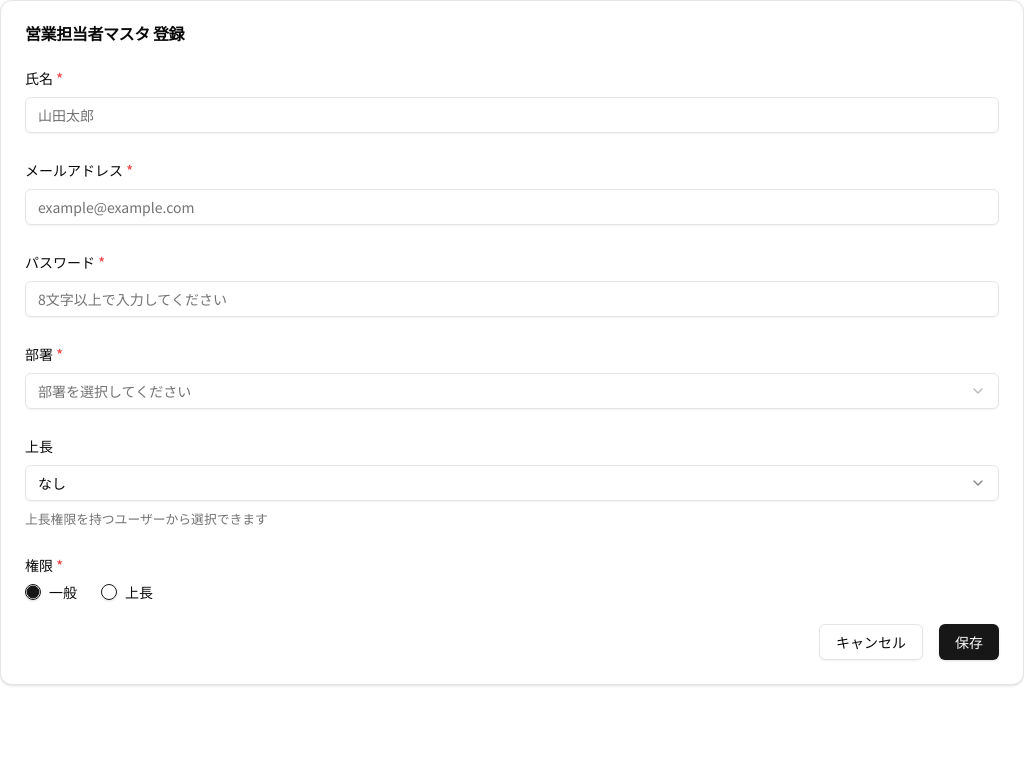
Test: SalesPersonForm › validation - create mode › should show password validation error
In the field labelled "氏名 *": (512, 115) left=25, top=97, right=999, bottom=133, type "テスト"
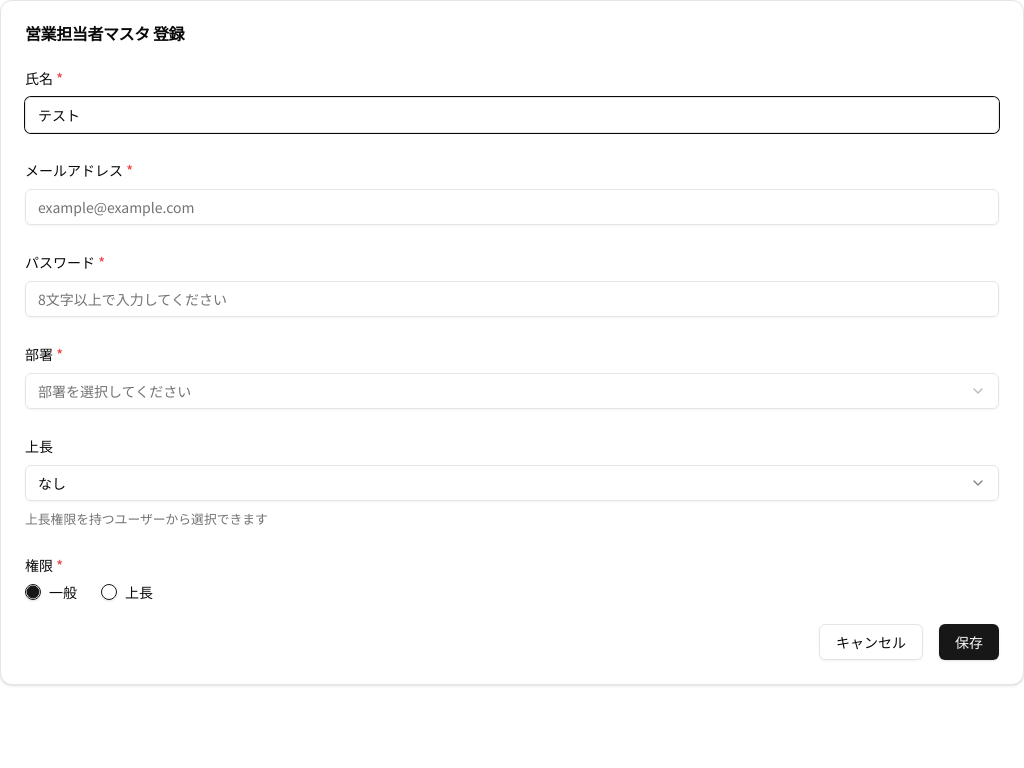
In the field labelled "メールアドレス *": (512, 207) left=25, top=189, right=999, bottom=225, type "test@example.com"
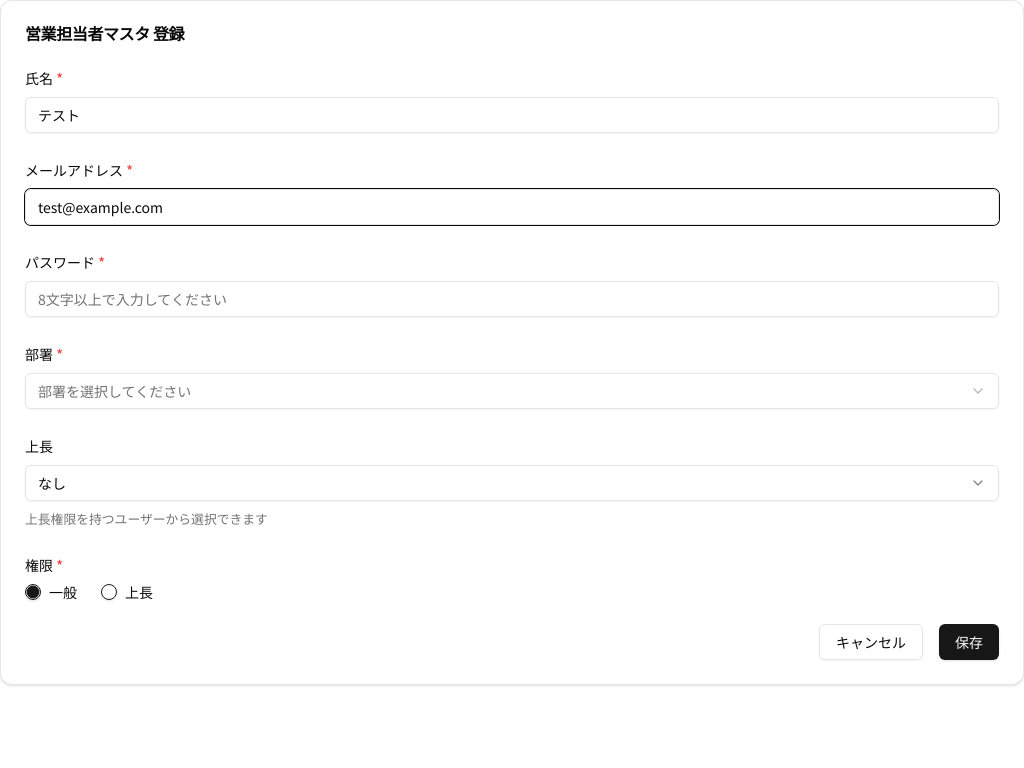
Click the button "保存": (969, 642) left=939, top=624, right=999, bottom=660
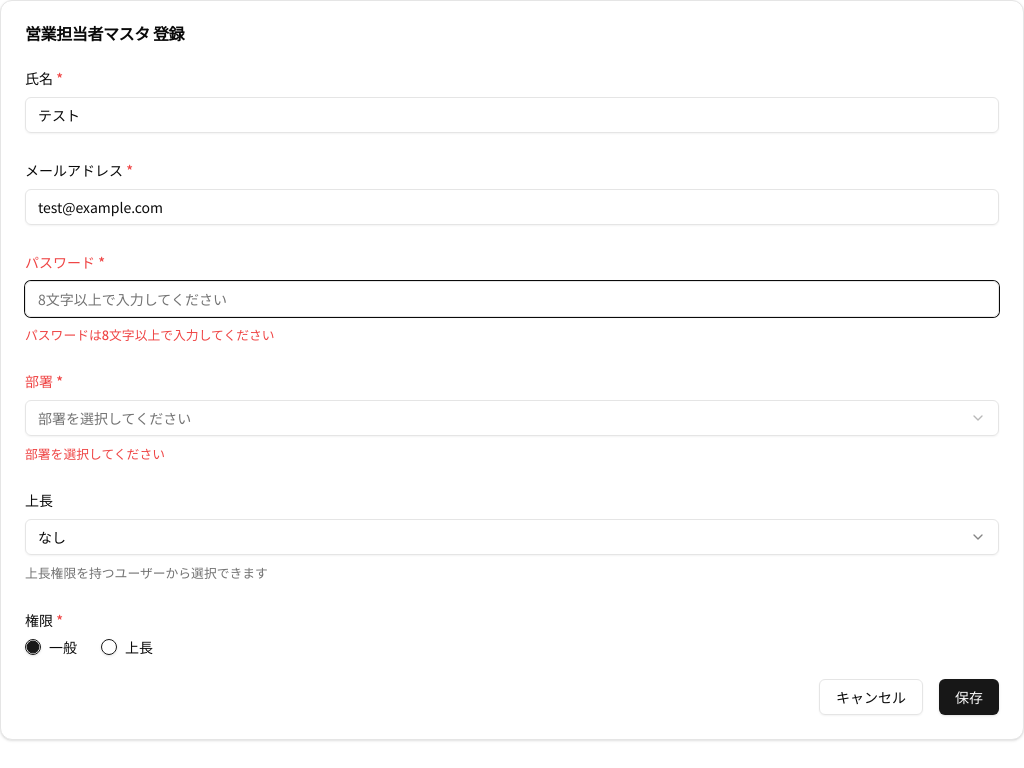
Result: the text "パスワードは8文字以上で入力してください" is shown at left=25, top=325, right=275, bottom=344
